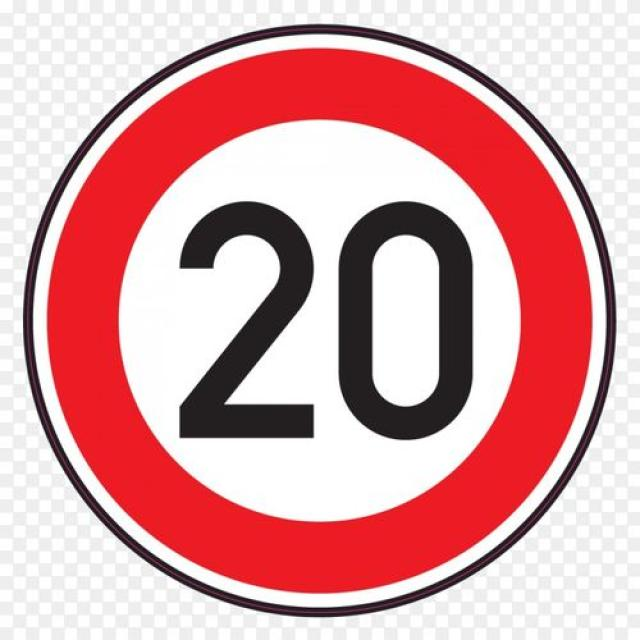speed limit 20: (21, 26, 616, 618)
